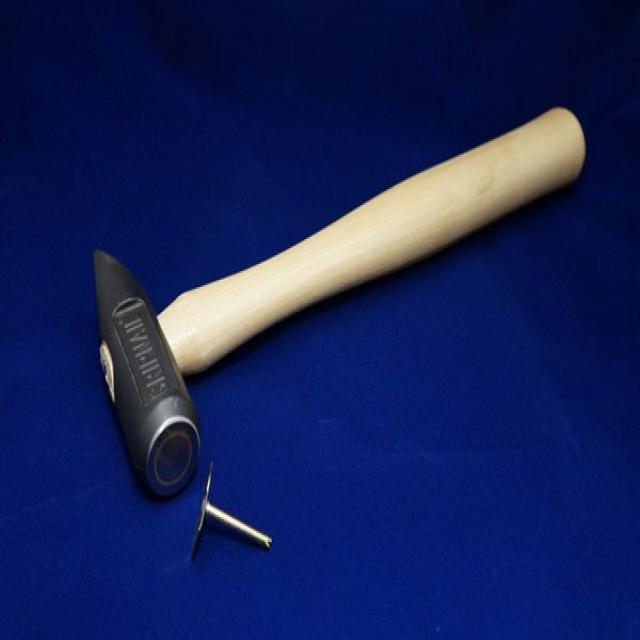hammer: (87, 99, 590, 502)
